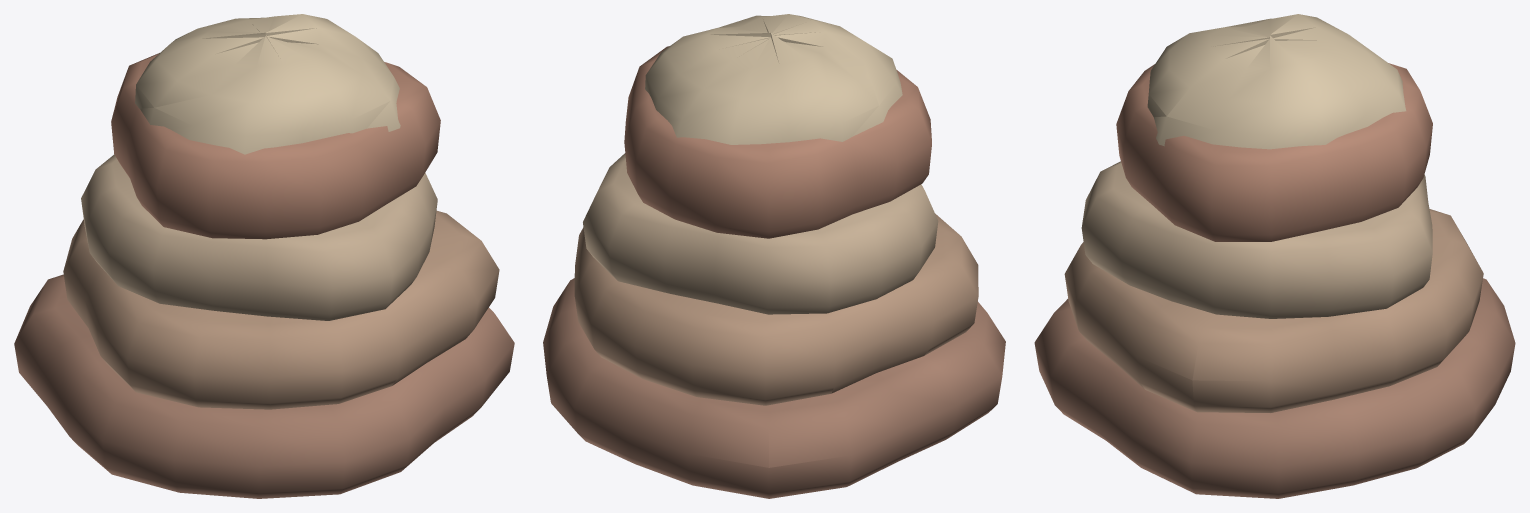
Rendered from cen_tarhut_rocha_1.glb.
3 renders of one model, left to right at view 1: azimuth 30°, elevation 25°; view 2: azimuth 150°, elevation 25°; view 3: azimuth 270°, elevation 25°, orthographic. The views are drawn at different scales.
Visible parts, largest first — view 1: rocha; view 2: rocha; view 3: rocha.
Boxes of the visible parts, left/top/right/bottom form: rocha: left=14, top=14, right=514, bottom=498; rocha: left=543, top=14, right=1005, bottom=498; rocha: left=1034, top=14, right=1515, bottom=498.
Size of the model in its own units: 1.78 by 1.5 by 1.79.
